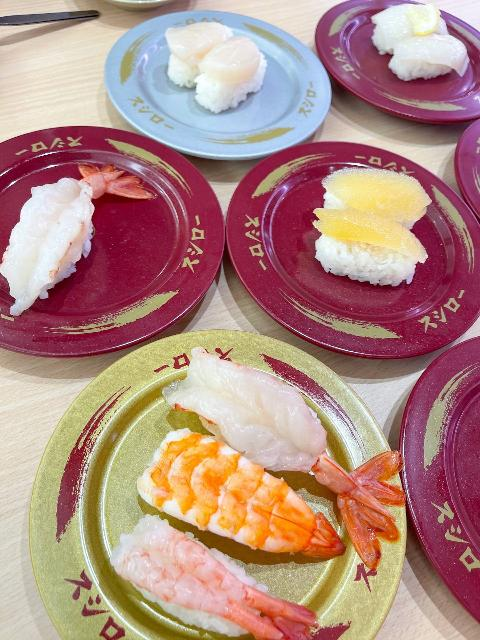jangold: (53, 371, 389, 640)
janred: (211, 145, 475, 320), (0, 134, 204, 329), (311, 2, 480, 119), (410, 374, 480, 589), (454, 117, 480, 204)
janwhite: (99, 38, 330, 153)
